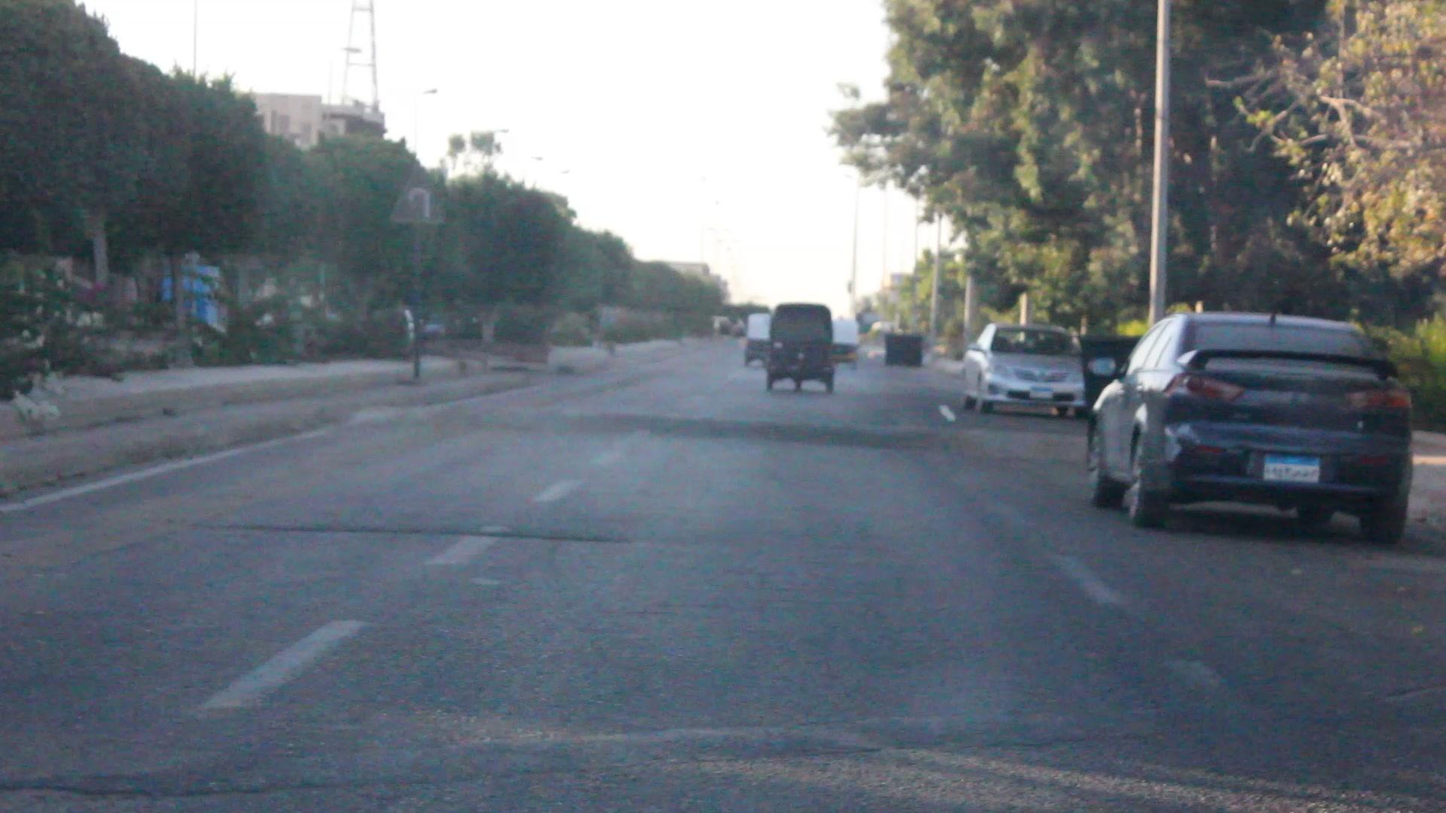Bump: (346, 399, 1084, 457)
